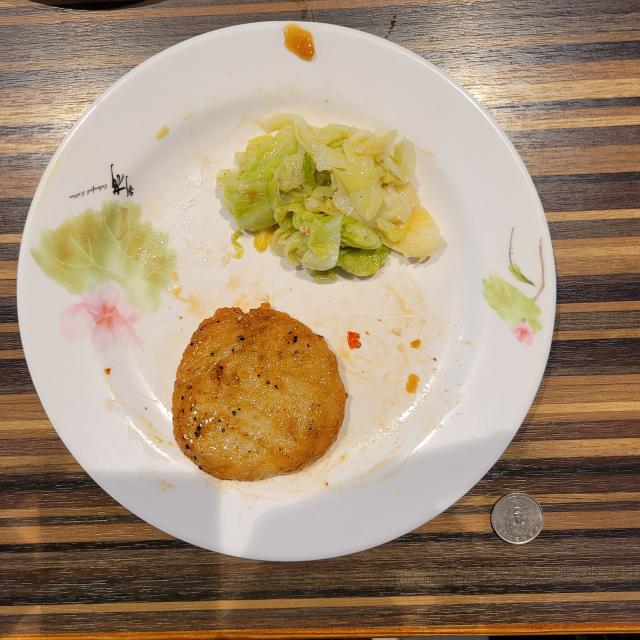cabbage: (218, 112, 442, 276)
coin: (491, 492, 544, 544)
fish cake: (172, 304, 346, 481)
